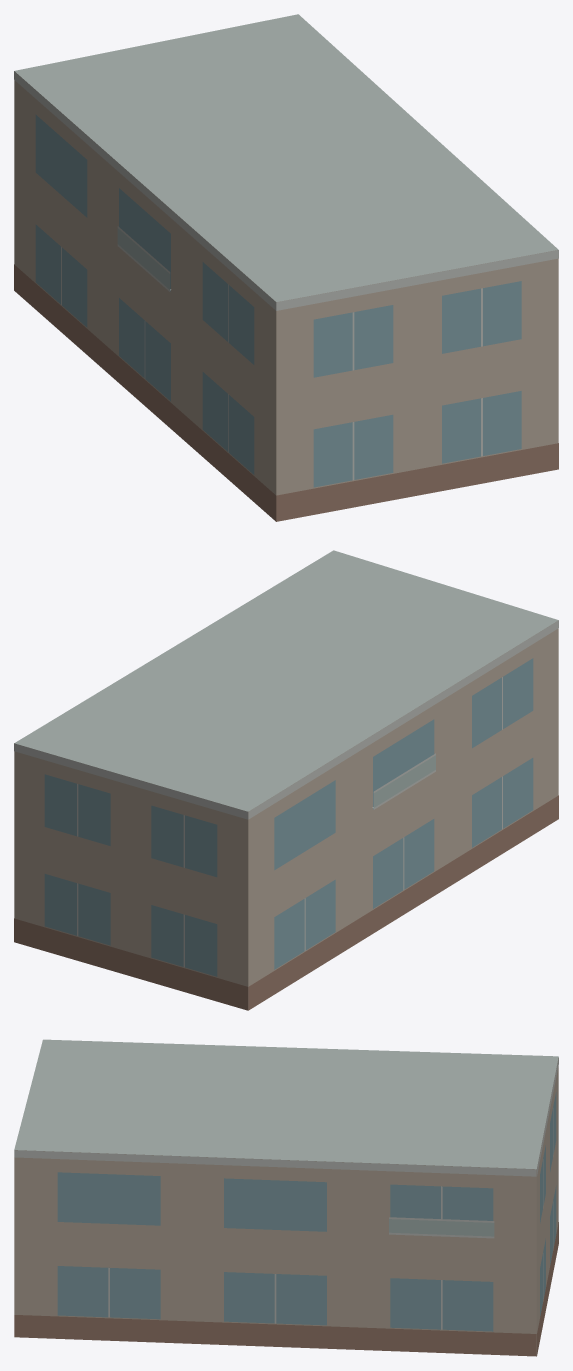
Rendered from survey-upis-32566116.glb.
The picture shows the model from 3 angles, top to bottom: view 1: azimuth 30°, elevation 25°; view 2: azimuth 150°, elevation 25°; view 3: azimuth 270°, elevation 25°; orthographic projection. The views are drawn at different scales.
Parts seen in each view (by area): view 1: survey-upis-32566116.tmp; view 2: survey-upis-32566116.tmp; view 3: survey-upis-32566116.tmp.
Boxes of the visible parts, x1,y1,x2,y2 form: survey-upis-32566116.tmp: (14,14,558,521); survey-upis-32566116.tmp: (14,550,558,1010); survey-upis-32566116.tmp: (14,1039,558,1356).
Size of the model in its own units: 9.07 by 6.1 by 16.1.
